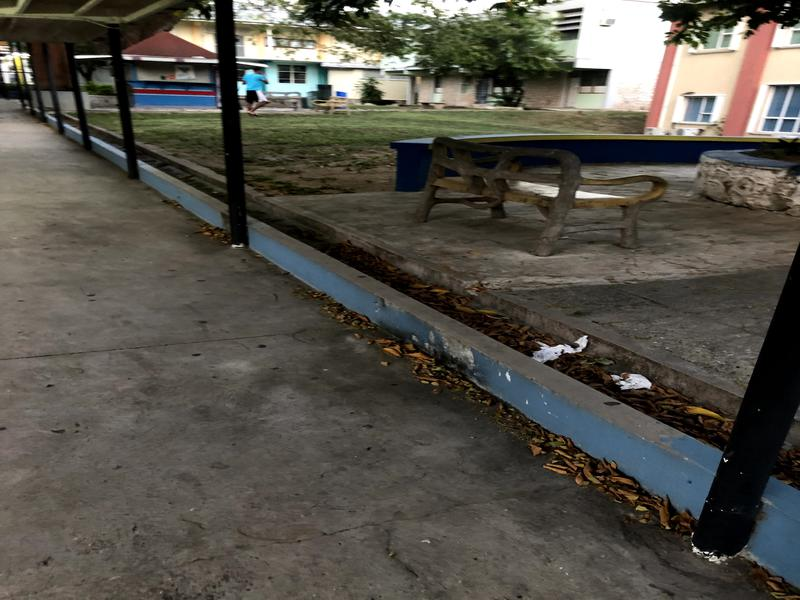18.0050864_-76.7496363_bench: (413, 127, 678, 281)
